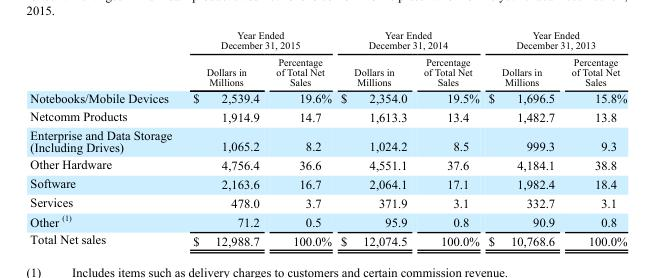table: (29, 29, 626, 247)
table column: (29, 29, 181, 247), (181, 29, 267, 247), (335, 29, 414, 247), (483, 29, 562, 247), (414, 29, 483, 247), (267, 29, 335, 247), (562, 29, 626, 247)
table column header: (29, 29, 626, 88)
table row: (29, 52, 626, 88), (29, 125, 626, 155), (29, 29, 626, 52), (29, 106, 626, 125), (29, 173, 626, 192), (29, 192, 626, 211), (29, 211, 626, 230), (29, 88, 626, 106), (29, 155, 626, 173), (29, 230, 626, 247)
table spanning cell: (181, 29, 335, 52), (335, 29, 483, 52), (483, 29, 626, 52)
